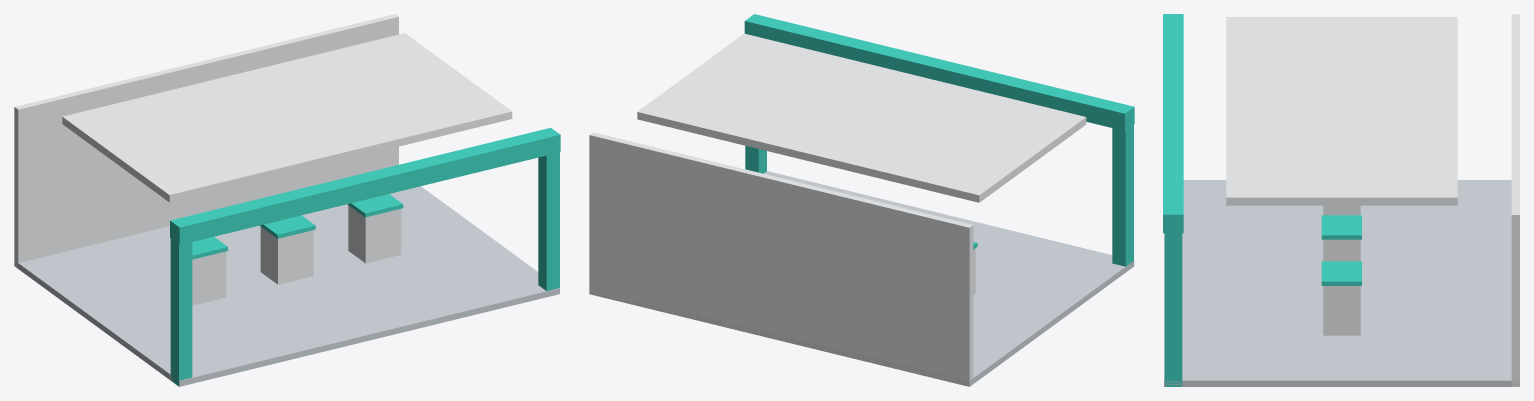
The picture shows the model from 3 angles, left to right: view 1: azimuth 30°, elevation 25°; view 2: azimuth 150°, elevation 25°; view 3: azimuth 270°, elevation 25°; orthographic projection. The views are drawn at different scales.
Visible parts, largest first — view 1: Exhibition Booth Concept; view 2: Exhibition Booth Concept; view 3: Exhibition Booth Concept.
Boxes of the visible parts, <box> form: Exhibition Booth Concept: <box>14,14,560,386</box>; Exhibition Booth Concept: <box>589,14,1134,386</box>; Exhibition Booth Concept: <box>1163,14,1519,386</box>.
Size of the model in its own units: 8 by 3.34 by 6.02.
